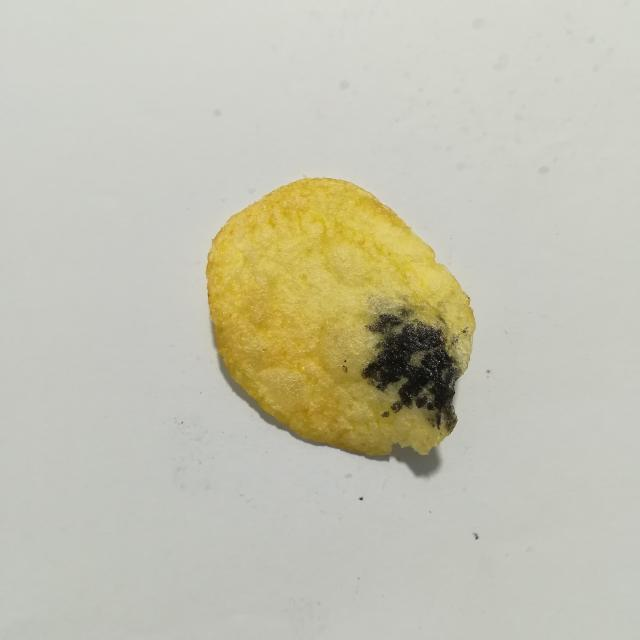chip: (206, 178, 475, 455)
damaged: (362, 309, 457, 432), (382, 411, 390, 417), (343, 365, 347, 373), (344, 360, 347, 363)
semi-damaged: (368, 292, 474, 379)
